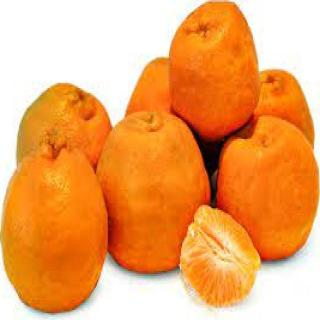orange: (1, 131, 111, 320), (98, 106, 210, 291), (216, 111, 320, 295), (155, 0, 270, 162), (180, 196, 272, 320)
